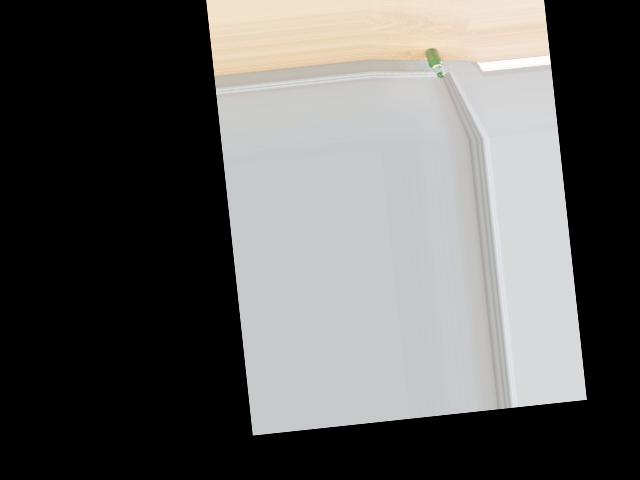beer: (425, 47, 444, 78)
